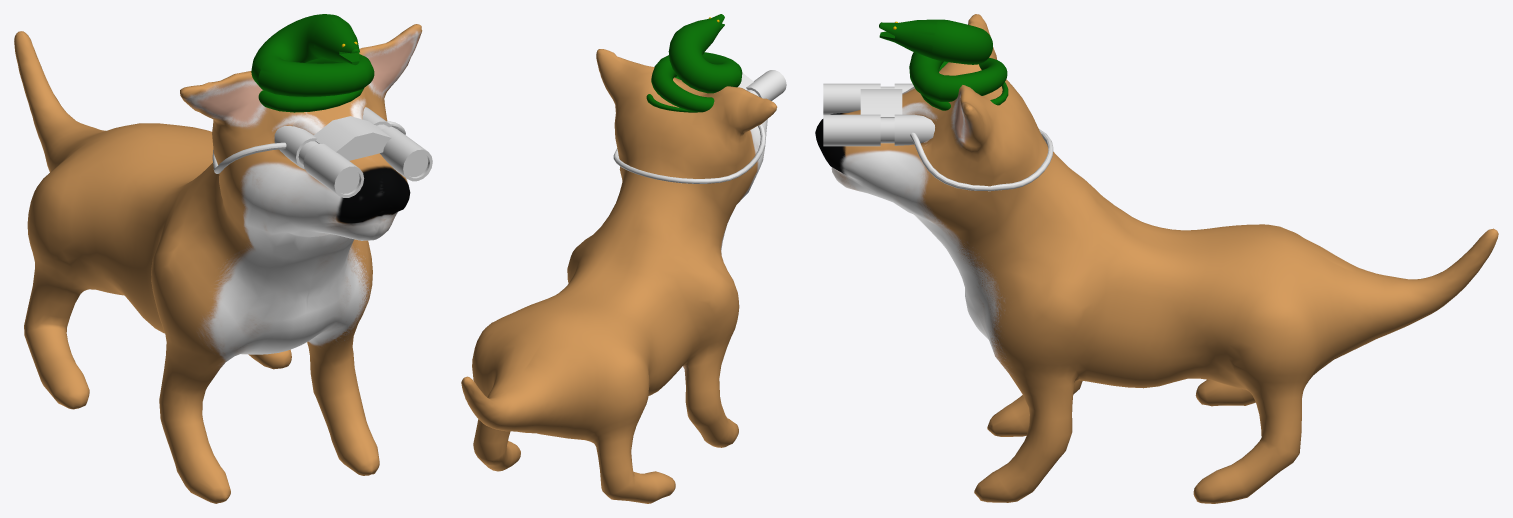
Rendered from Snek.fbx.
3 views of the same model, side by side, from view 1: azimuth 30°, elevation 25°; view 2: azimuth 150°, elevation 25°; view 3: azimuth 270°, elevation 25° (orthographic). The views are drawn at different scales.
Visible parts, largest first — view 1: Dog_low, BezierCurve, Binoculars; view 2: Dog_low, BezierCurve, Binoculars; view 3: Dog_low, Binoculars, BezierCurve.
Boxes of the visible parts, <box> form: Dog_low: <box>14,24,422,503</box>; BezierCurve: <box>251,14,374,112</box>; Binoculars: <box>212,107,432,197</box>; Dog_low: <box>461,49,777,503</box>; BezierCurve: <box>646,14,742,112</box>; Binoculars: <box>613,70,786,183</box>; Dog_low: <box>815,14,1498,503</box>; Binoculars: <box>823,83,1053,191</box>; BezierCurve: <box>879,19,1008,110</box>.
Size of the model in its own units: 248 by 489 by 670.
